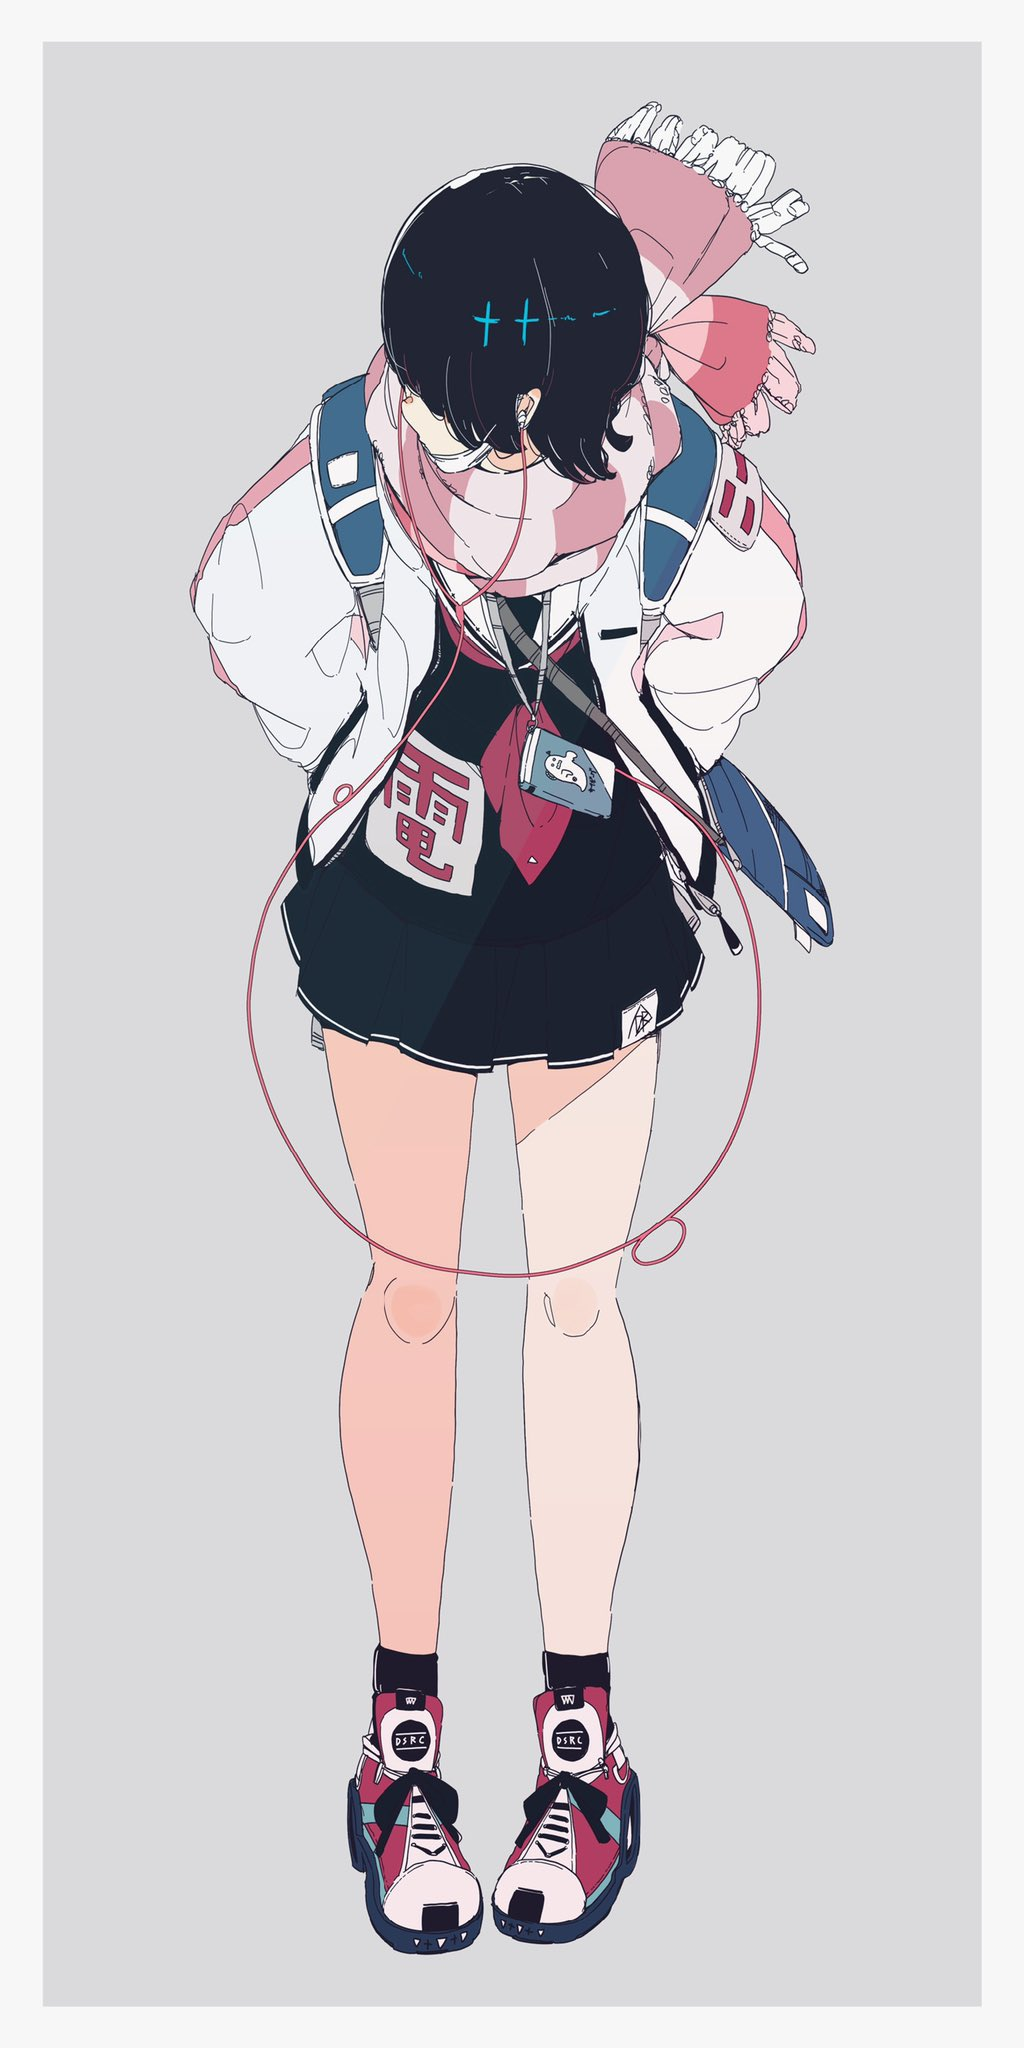p: (131, 142, 903, 1984)
